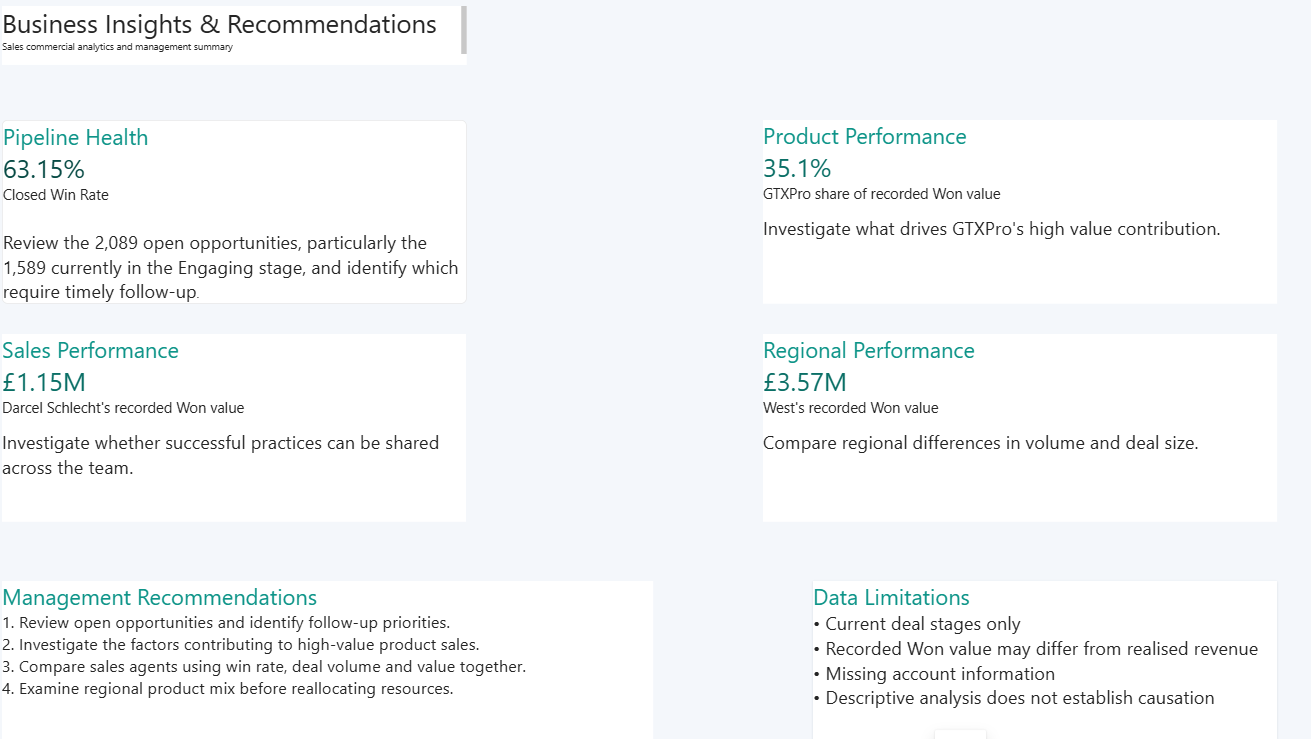

This screenshot's page, from the dashboard's own definition file:
{"tool":"powerbi","page":{"name":"Page 1","canvas":[1920,1080],"ordinal":5},"visuals":[{"type":"textbox","box":[10.2,10.2,678.4,86.1],"z":1000},{"type":"textbox","box":[10.2,176.5,678.4,268.4],"z":2000},{"type":"textbox","box":[10.2,488.8,677,274.3],"z":3000},{"type":"textbox","box":[1120.5,488.8,749.9,274.3],"z":4000},{"type":"textbox","box":[1120.5,176.5,749.9,268.4],"z":5000},{"type":"textbox","box":[10.2,849.1,949.8,230.5],"z":6000},{"type":"textbox","box":[1193.4,849.1,677,232],"z":7000}]}

Visuals, with their boxes in screenshot pixels (x1, y1, x2, y2), scaled from the page's 1920x1080 canvas onto the 1311x739 screenshot:
textbox: [7,7,470,66]
textbox: [7,121,470,304]
textbox: [7,334,469,522]
textbox: [765,334,1277,522]
textbox: [765,121,1277,304]
textbox: [7,581,656,738]
textbox: [815,581,1277,738]
